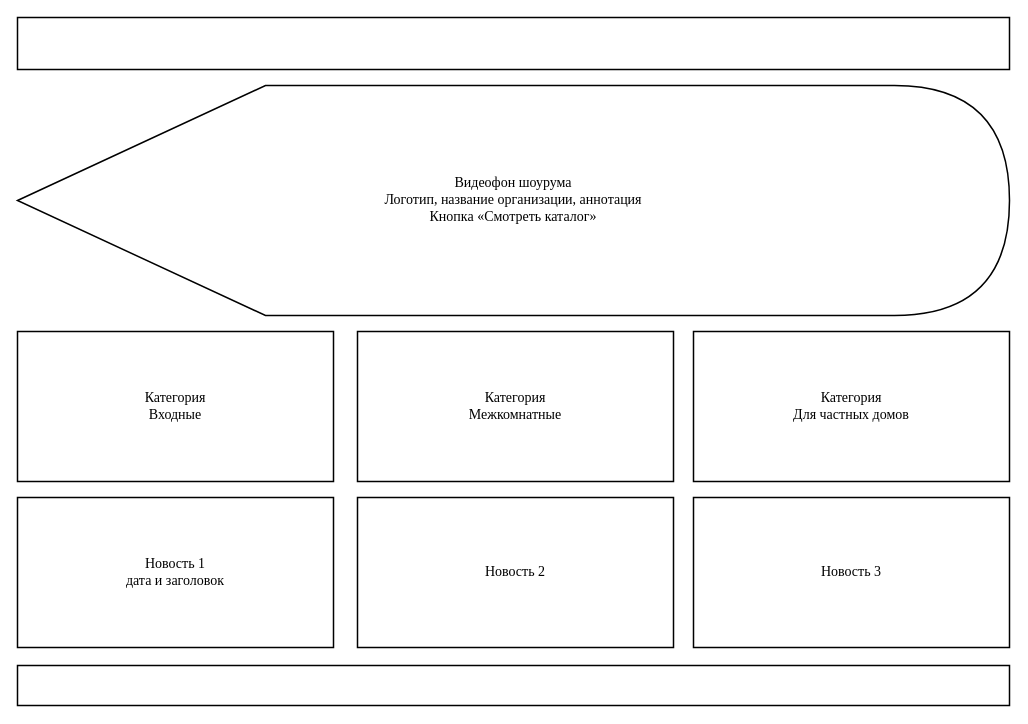
Some shapes in this 1028 by 724 pixel diagram are drawn without their labels. The centre of each missing label's shape, as x and y in pixels:
"ООО «Портал» · Псков, ул. Металлистов, 12 · телефоны · разработчик" goes at (x=513, y=685).
"ПОРТАЛ Главная | Каталог | Новости | Наши работы | Контакты Вход / роль" goes at (x=513, y=43).
